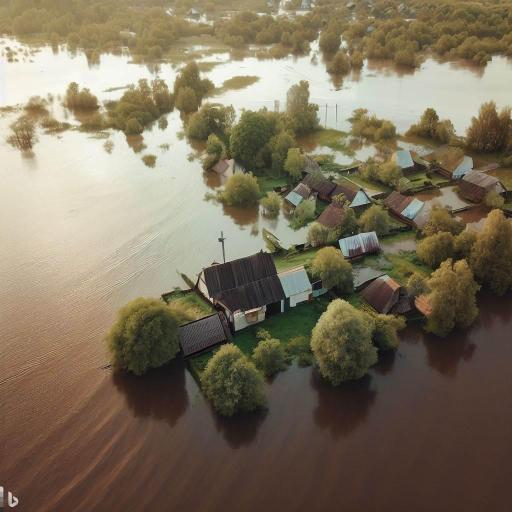flood: (0, 112, 512, 512), (206, 56, 512, 131), (0, 38, 176, 104), (298, 128, 384, 166), (415, 186, 475, 224), (455, 204, 492, 232), (380, 231, 420, 253), (398, 136, 442, 156)
house: (203, 251, 280, 328), (270, 261, 316, 311), (356, 272, 408, 316), (460, 169, 507, 207), (384, 191, 428, 225), (332, 176, 374, 210), (337, 230, 381, 262), (209, 155, 247, 188), (438, 152, 472, 181), (316, 204, 350, 232), (388, 145, 418, 175), (282, 181, 314, 205)
